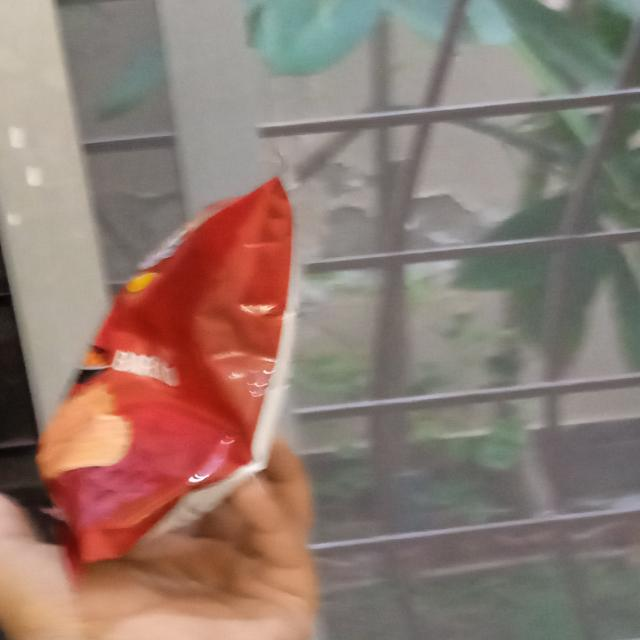Plastic: (36, 172, 302, 565)
